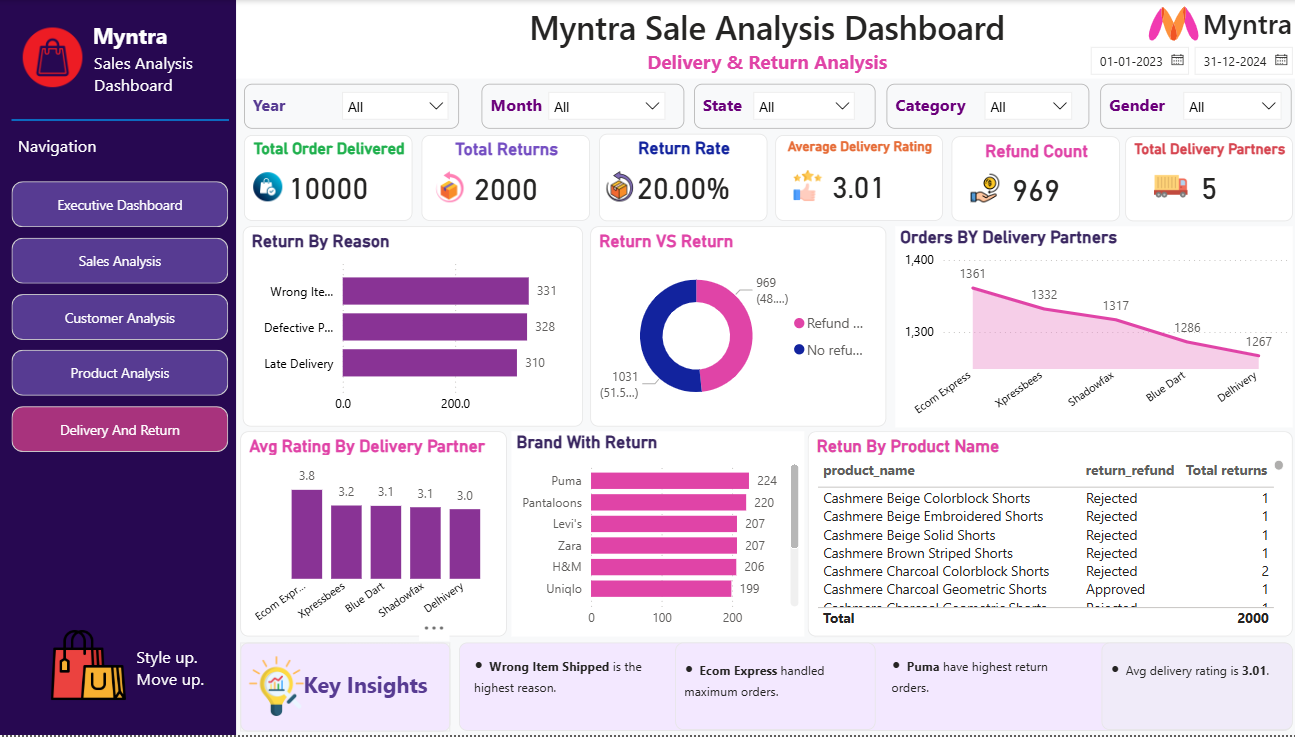

This screenshot's page, from the dashboard's own definition file:
{"tool":"powerbi","page":{"name":"Delivery And Return","canvas":[1280,720],"ordinal":4},"visuals":[{"type":"shape","box":[9.6,0,231.9,720.4],"z":0},{"type":"textbox","box":[242.1,0,1038.2,77],"z":1000},{"type":"textbox","box":[61.1,14.7,128.4,41.6],"z":2000},{"type":"textbox","box":[97.8,45.2,118.6,55],"z":3000},{"type":"textbox","box":[23.3,126.2,102.9,49.4],"z":4000},{"type":"textbox","box":[1182.9,0,97.4,45.3],"z":5000},{"type":"image","box":[1114.2,2.7,90.6,42.5],"z":6000},{"type":"slicer","fields":{"Values":["order_clean.order_date"]},"box":[1065.1,35.5,215.2,41.6],"z":7000},{"type":"card","title":"Total Order Delivered","fields":{"Values":["order_clean.Total Orders"]},"box":[249.5,132.1,165.1,84.4],"z":8000},{"type":"card","title":"Total Returns","fields":{"Values":["return_clean.Total returns"]},"box":[423.1,132.1,165.1,84.4],"z":9000},{"type":"card","title":"Average Delivery Rating","fields":{"Values":["rating_clean.Avg Delivery Rating"]},"box":[769.2,132.1,163.9,84.4],"z":10000},{"type":"card","title":"Return Rate","fields":{"Values":["return_clean.Return %"]},"box":[596.7,130.8,165.1,85.6],"z":11000},{"type":"card","title":"Refund Count","fields":{"Values":["return_clean.Refund Count"]},"box":[941.6,133.3,165.1,83.2],"z":12000},{"type":"card","title":"Total Delivery Partners","fields":{"Values":["delivery_clean.Total Delivery Partners"]},"box":[1111.6,133.3,163.9,83.2],"z":13000},{"type":"barChart","title":"Return By Reason","fields":{"Category":["return_clean.reason"],"Y":["return_clean.Refund Count"]},"box":[248.2,221.3,332.6,195.7],"z":14000},{"type":"donutChart","title":"Return VS Return","fields":{"Y":["return_clean.Refund Count","return_clean.No refund count"]},"box":[588.2,221.3,289.8,195.7],"z":15000},{"type":"lineChart","title":"Orders BY Delivery Partners","fields":{"Category":["delivery_clean.delivery_partner_name"],"Y":["CountNonNull(order_clean.order_id)"]},"box":[886.6,221.3,388.9,196.9],"z":16000},{"type":"clusteredColumnChart","title":"Avg Rating By Delivery Partner","fields":{"Category":["delivery_clean.delivery_partner_name"],"Y":["order_clean.Average rating"]},"box":[245.8,421.9,260.5,200.5],"z":17000},{"type":"tableEx","title":"Retun By Product Name","fields":{"Values":["products_clean.product_name","return_clean.return_refund","return_clean.Total returns"]},"box":[801,421.9,474.5,200.5],"z":18000},{"type":"textbox","box":[245.8,628.5,205.4,86.8],"z":19000},{"type":"textbox","box":[459.7,628.5,815.1,86.4],"z":20000},{"type":"image","box":[236,642,90.5,58.7],"z":21000},{"type":"textbox","box":[469.6,628.5,201.8,77],"z":22000},{"type":"textbox","box":[671.3,628.5,195.7,85.6],"z":23000},{"type":"textbox","box":[878,628.5,201.8,77],"z":24000},{"type":"textbox","box":[1088.3,628.5,187.1,85.6],"z":25000},{"type":"image","box":[251.9,167.5,41.6,30.6],"z":26000},{"type":"image","box":[780.2,166.3,41.6,30.6],"z":27000},{"type":"image","box":[596.7,167.5,40.4,29.3],"z":28000},{"type":"shape","box":[22,102.7,212.8,29.3],"z":29000},{"type":"textbox","box":[689.7,81.9,177.3,44],"z":30000},{"type":"textbox","box":[481.8,81.9,198.1,44],"z":31000},{"type":"textbox","box":[878,81.9,198.1,44],"z":32000},{"type":"textbox","box":[1087.1,81.9,187.1,44],"z":33000},{"type":"slicer","fields":{"Values":["customer_clean.Gender"]},"box":[1158,79.5,116.2,42.8],"z":34000},{"type":"pageNavigator","box":[22,177.3,212.8,267.8],"z":35000},{"type":"slicer","fields":{"Values":["products_clean.category"]},"box":[963.6,79.5,106.4,40.4],"z":36000},{"type":"slicer","fields":{"Values":["customer_clean.state"]},"box":[737.4,79.5,119.8,50.1],"z":37000},{"type":"slicer","fields":{"Values":["Date_table.Month"]},"box":[536.8,79.5,134.5,50.1],"z":38000},{"type":"textbox","box":[249.5,81.9,210.3,44],"z":39000},{"type":"slicer","fields":{"Values":["Date_table.Year"]},"box":[335.1,79.5,124.7,50.1],"z":40000},{"type":"textbox","box":[139.4,626.1,88,94.2],"z":41000},{"type":"image","box":[9.8,26.9,105.2,58.7],"z":42000},{"type":"image","box":[24.5,611.4,145.5,78.3],"z":43000},{"type":"clusteredBarChart","title":"Brand With Return","fields":{"Category":["products_clean.company_name"],"Y":["CountNonNull(return_clean.return_refund)"]},"box":[511.1,421.9,286.1,200.5],"z":44000},{"type":"image","box":[431.7,167.5,37.9,30.6],"z":45000},{"type":"image","box":[958.7,170,31.8,28.1],"z":46000},{"type":"image","box":[1139.7,162.6,33,39.1],"z":47000}]}

Visuals, with their boxes on the page's 1280x720 design canvas (x1, y1, x2, y2). These are canvas units, not pixel positions in the 1295x737 screenshot, which may show the page scaled, cropped or inside an application window:
shape: 10/0/242/720
textbox: 242/0/1280/77
textbox: 61/15/190/56
textbox: 98/45/216/100
textbox: 23/126/126/176
textbox: 1183/0/1280/45
image: 1114/3/1205/45
slicer - order_clean.order_date: 1065/36/1280/77
"Total Order Delivered" card: 250/132/415/216
"Total Returns" card: 423/132/588/216
"Average Delivery Rating" card: 769/132/933/216
"Return Rate" card: 597/131/762/216
"Refund Count" card: 942/133/1107/216
"Total Delivery Partners" card: 1112/133/1276/216
"Return By Reason" barChart: 248/221/581/417
"Return VS Return" donutChart: 588/221/878/417
"Orders BY Delivery Partners" lineChart: 887/221/1276/418
"Avg Rating By Delivery Partner" clusteredColumnChart: 246/422/506/622
"Retun By Product Name" tableEx: 801/422/1276/622
textbox: 246/628/451/715
textbox: 460/628/1275/715
image: 236/642/326/701
textbox: 470/628/671/706
textbox: 671/628/867/714
textbox: 878/628/1080/706
textbox: 1088/628/1275/714
image: 252/168/294/198
image: 780/166/822/197
image: 597/168/637/197
shape: 22/103/235/132
textbox: 690/82/867/126
textbox: 482/82/680/126
textbox: 878/82/1076/126
textbox: 1087/82/1274/126
slicer - customer_clean.Gender: 1158/80/1274/122
pageNavigator: 22/177/235/445
slicer - products_clean.category: 964/80/1070/120
slicer - customer_clean.state: 737/80/857/130
slicer - Date_table.Month: 537/80/671/130
textbox: 250/82/460/126
slicer - Date_table.Year: 335/80/460/130
textbox: 139/626/227/720
image: 10/27/115/86
image: 24/611/170/690
"Brand With Return" clusteredBarChart: 511/422/797/622
image: 432/168/470/198
image: 959/170/990/198
image: 1140/163/1173/202
